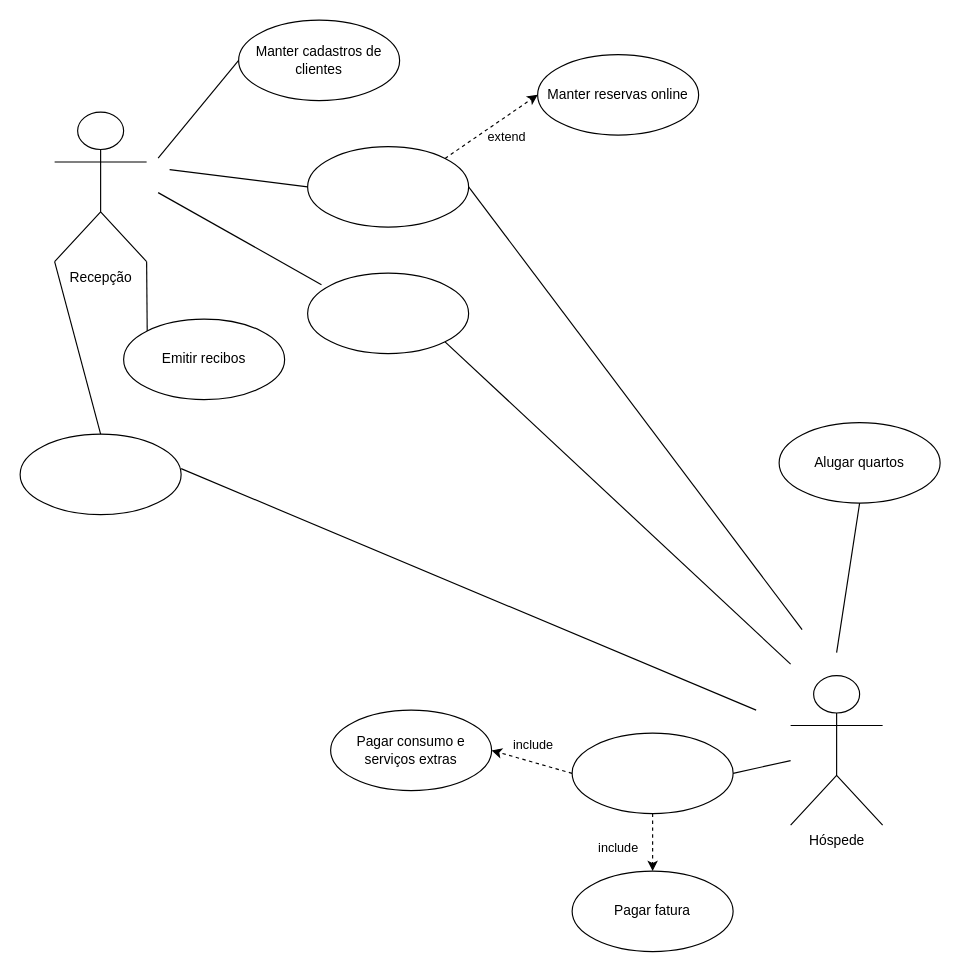
Image size: 960x972. Some labels were removed from this diagram. Here are the shapes that lost their labels. From the top down, the box of each, then its label:
(306, 145, 469, 227): Manter reservas
(306, 272, 469, 354): Manter aluguel de quartos
(19, 433, 181, 515): compra e venda de serviços/ produtos
(571, 732, 733, 814): Encerrar serviços
